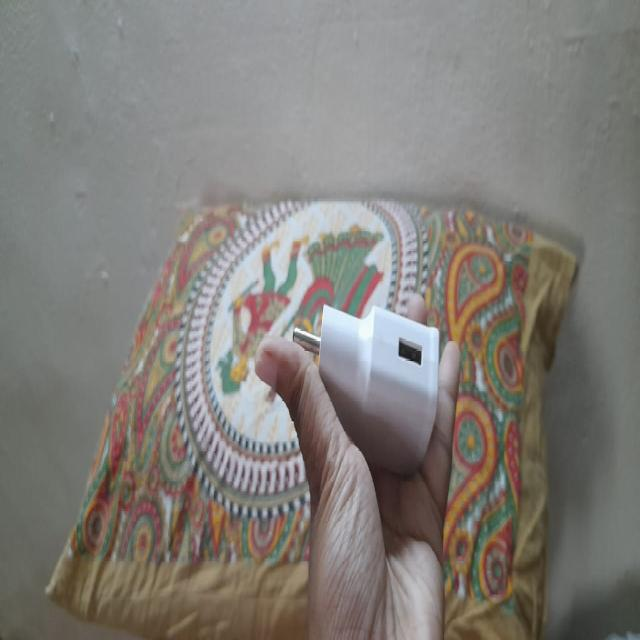Charger - Recyclable: (292, 300, 440, 479)
